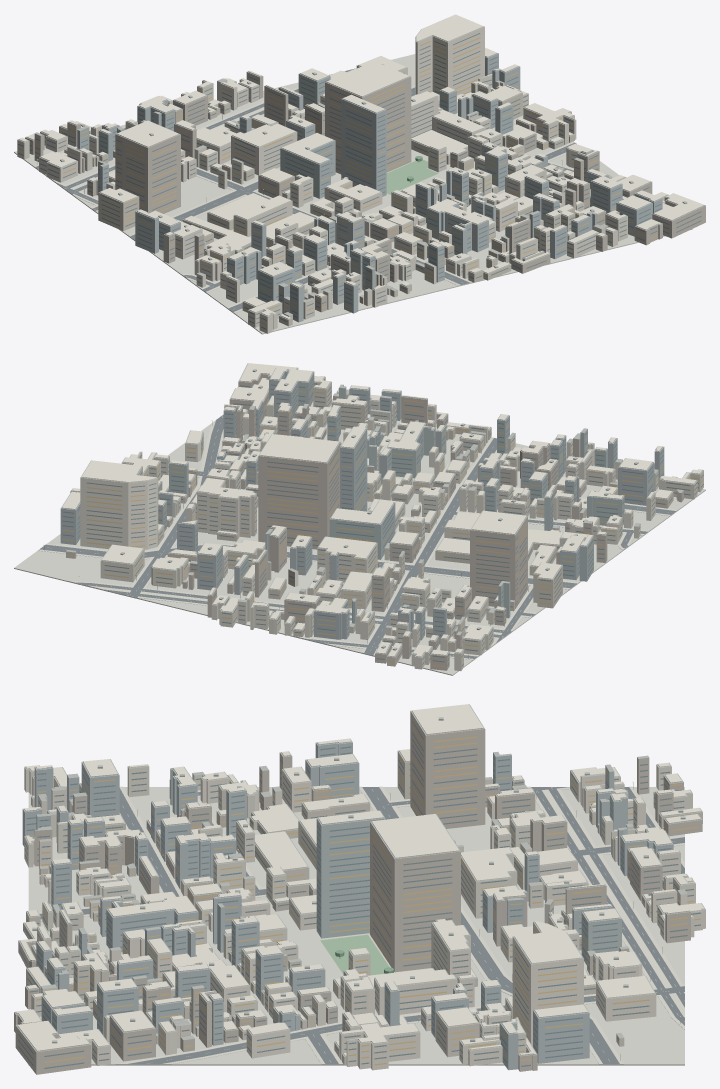
The picture shows the model from 3 angles, top to bottom: view 1: azimuth 30°, elevation 25°; view 2: azimuth 150°, elevation 25°; view 3: azimuth 270°, elevation 25°; orthographic projection. The views are drawn at different scales.
Visible parts, largest first — view 1: city; view 2: city; view 3: city.
Part boxes in pixels (x1,y1,x2,y2): city: (14, 14, 705, 334); city: (14, 363, 705, 675); city: (14, 704, 705, 1074).
Bounding box in the file's own units: 527 × 97.95 × 527.
